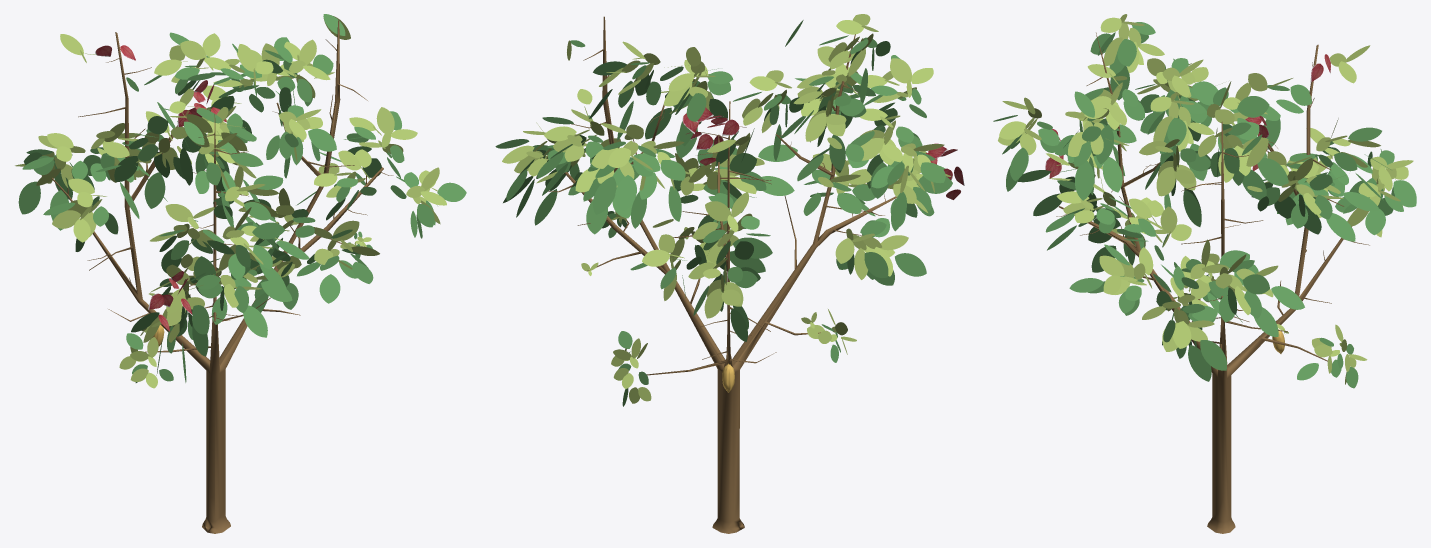
File: cocoa_tree.fbx
The picture shows the model from 3 angles, left to right: view 1: azimuth 30°, elevation 25°; view 2: azimuth 150°, elevation 25°; view 3: azimuth 270°, elevation 25°; orthographic projection. The views are drawn at different scales.
Parts seen in each view (by area): view 1: cocoa_tree_leaves, cocoa_tree; view 2: cocoa_tree_leaves, cocoa_tree; view 3: cocoa_tree_leaves, cocoa_tree.
Boxes of the visible parts, x1,y1,x2,y2 form: cocoa_tree_leaves: (15,14,466,388); cocoa_tree: (51,20,393,533); cocoa_tree_leaves: (495,14,964,406); cocoa_tree: (548,16,896,533); cocoa_tree_leaves: (993,14,1416,388); cocoa_tree: (1056,32,1369,533).
Bounding box in the file's own units: 5.31 × 5.91 × 4.8.
